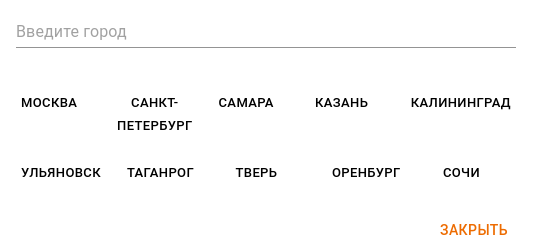
it: testing Cities › filtered cities
Expected: the button "Москва" is shown, [16,88,82,119]
Expected: the button "Самара" is shown, [214,88,279,119]
Type "Москва" into the field with placeholder "Введите город" at (266, 32), box [16,16,516,48]
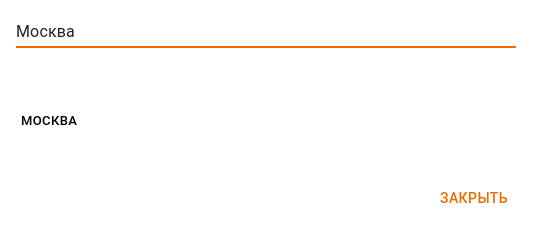
Expected: the button "Москва" is shown, [16,106,82,137]
Expected: the button "Самара" is gone
